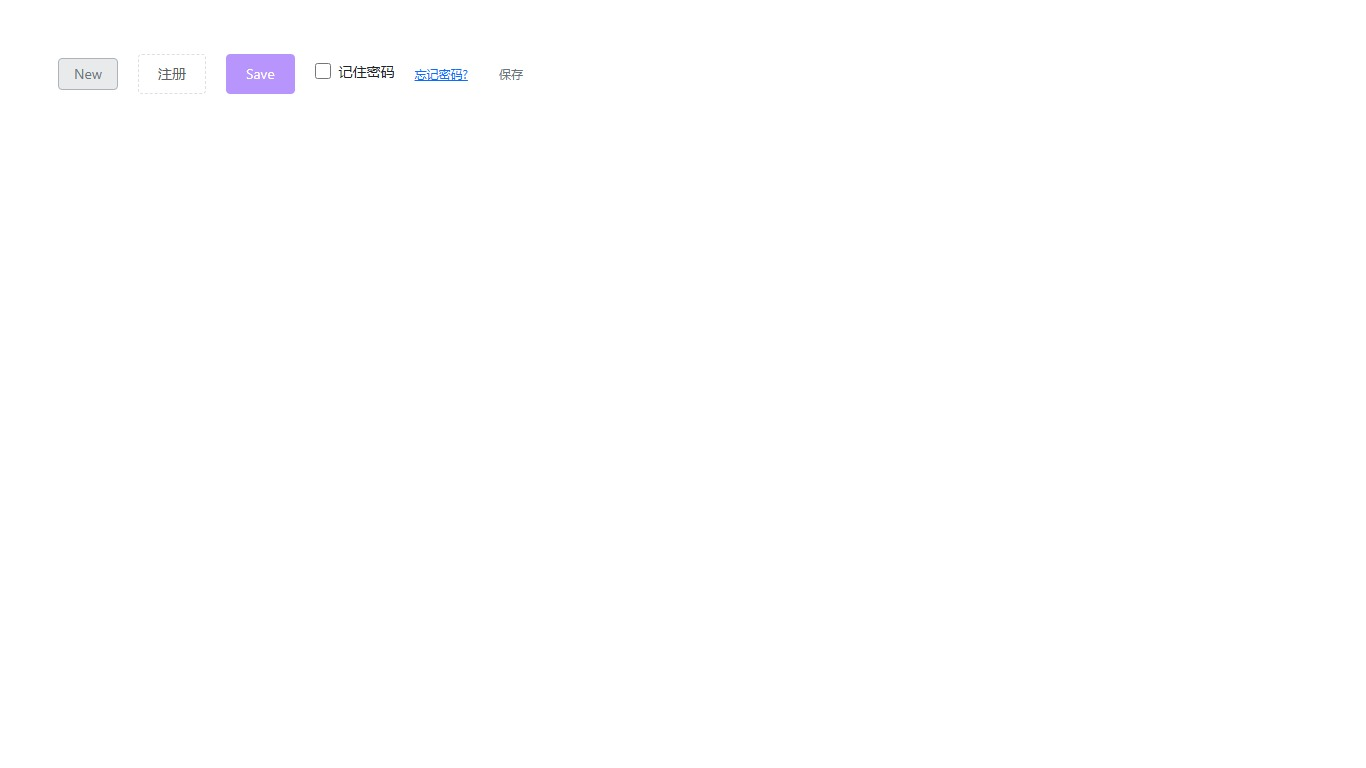button: (226, 54, 295, 94), (138, 54, 206, 94), (58, 58, 118, 90), (488, 63, 534, 85)
checkbox: (315, 63, 331, 79)
icon: (339, 61, 395, 81)
link: (415, 66, 468, 82)
radio: (315, 61, 395, 81)
